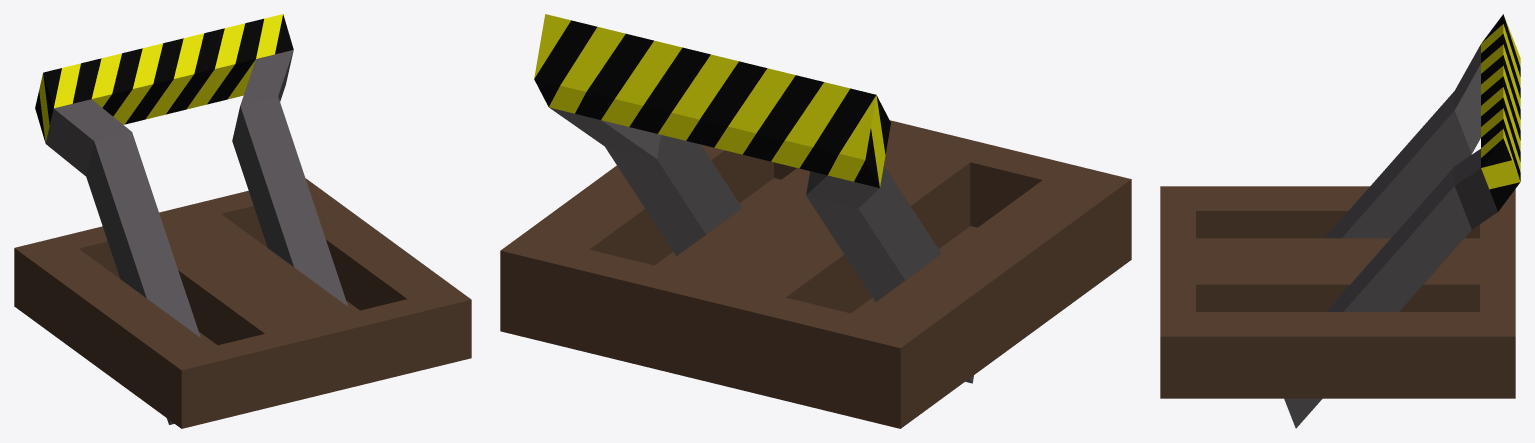
The model's file is LeverYFloorEnd.glb.
3 views of the same model, side by side, from view 1: azimuth 30°, elevation 25°; view 2: azimuth 150°, elevation 25°; view 3: azimuth 270°, elevation 25° (orthographic). The views are drawn at different scales.
Visible parts, largest first — view 1: Plane.005, Plane.003, Plane.004; view 2: Plane.005, Plane.003, Plane.004; view 3: Plane.005, Plane.004, Plane.003.
Part boxes in pixels (x1=…): Plane.005: x1=14, y1=178, x2=471, y2=428; Plane.003: x1=35, y1=43, x2=200, y2=424; Plane.004: x1=163, y1=14, x2=348, y2=306; Plane.005: x1=500, y1=120, x2=1131, y2=428; Plane.003: x1=700, y1=54, x2=973, y2=383; Plane.004: x1=534, y1=14, x2=742, y2=256; Plane.005: x1=1160, y1=186, x2=1515, y2=398; Plane.004: x1=1284, y1=76, x2=1520, y2=428; Plane.003: x1=1325, y1=14, x2=1520, y2=238.
Bounding box in the file's own units: 0.8582 × 0.814 × 0.8702.
